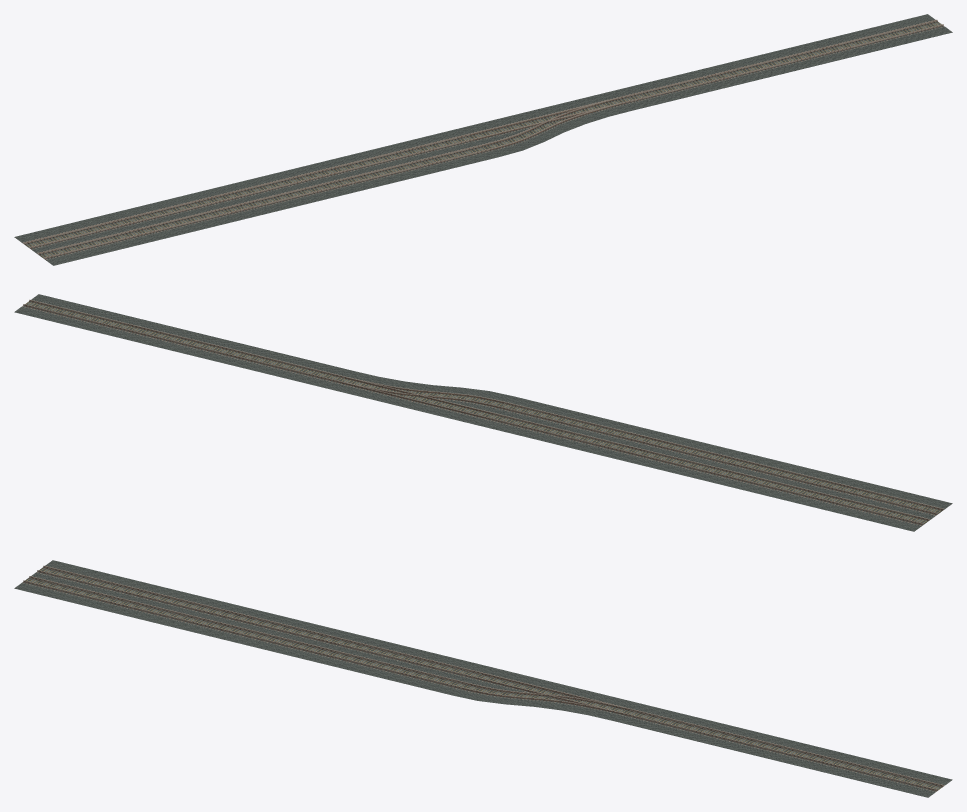
The model's file is vgsnrailroad02.obj.
3 views of the same model, one above another, from view 1: azimuth 30°, elevation 25°; view 2: azimuth 150°, elevation 25°; view 3: azimuth 330°, elevation 25° (orthographic).
Parts seen in each view (by area): view 1: vgsNrailroad02; view 2: vgsNrailroad02; view 3: vgsNrailroad02.
Part boxes in pixels (x1,y1,x2,y2): vgsNrailroad02: (14, 14, 952, 265); vgsNrailroad02: (14, 294, 952, 531); vgsNrailroad02: (14, 560, 952, 797).
Bounding box in the file's own units: 148 × 0.2 × 11.05.
Materials: 2 (2 with a texture image).
